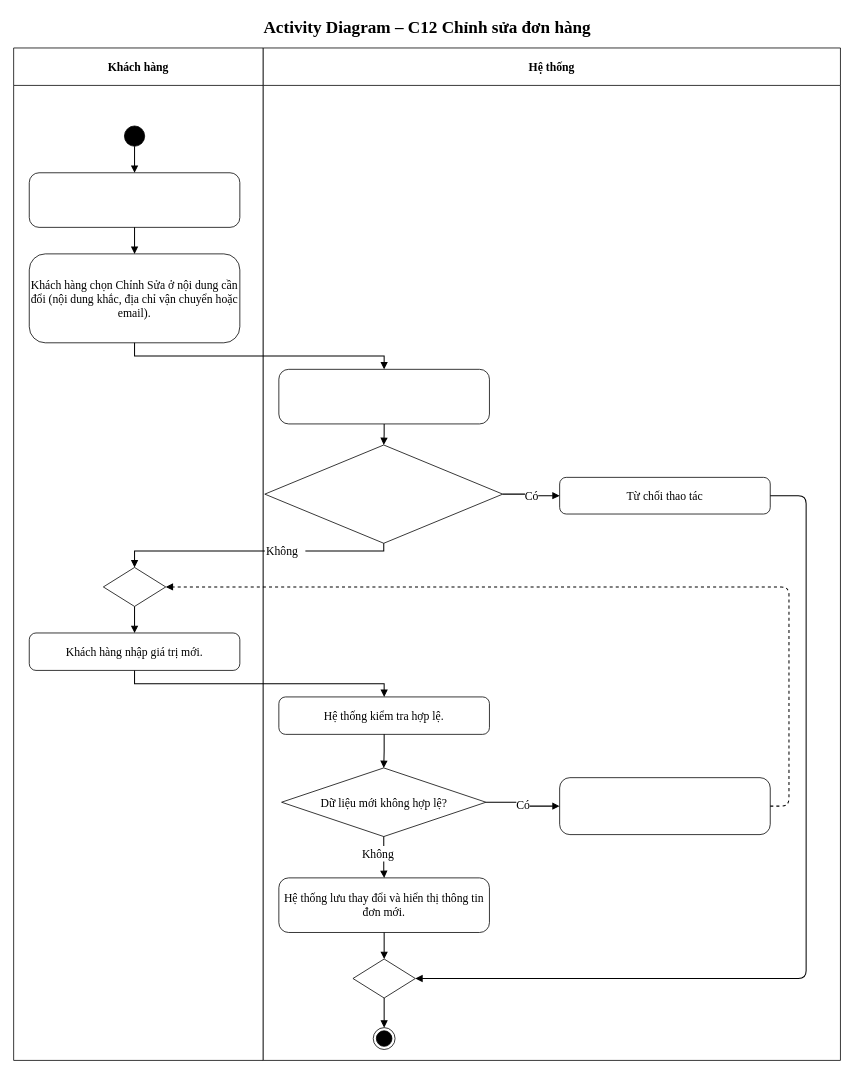
Some shapes in this 854 by 1074 pixel diagram are drawn without their labels. Here are the shapes that lost their labels. From the top down, the centre of each, then its label:
the point at 134,199: Khách hàng mở trang Đơn Hàng Của Bạn.
the point at 383,396: Hệ thống kiểm tra trạng thái đơn và quyền chỉnh sửa.
the point at 383,493: Đơn đã Chuẩn Bị Vận Chuyển trở đi (không còn chỉnh sửa được)?
the point at 664,806: Yêu cầu nhập lại
